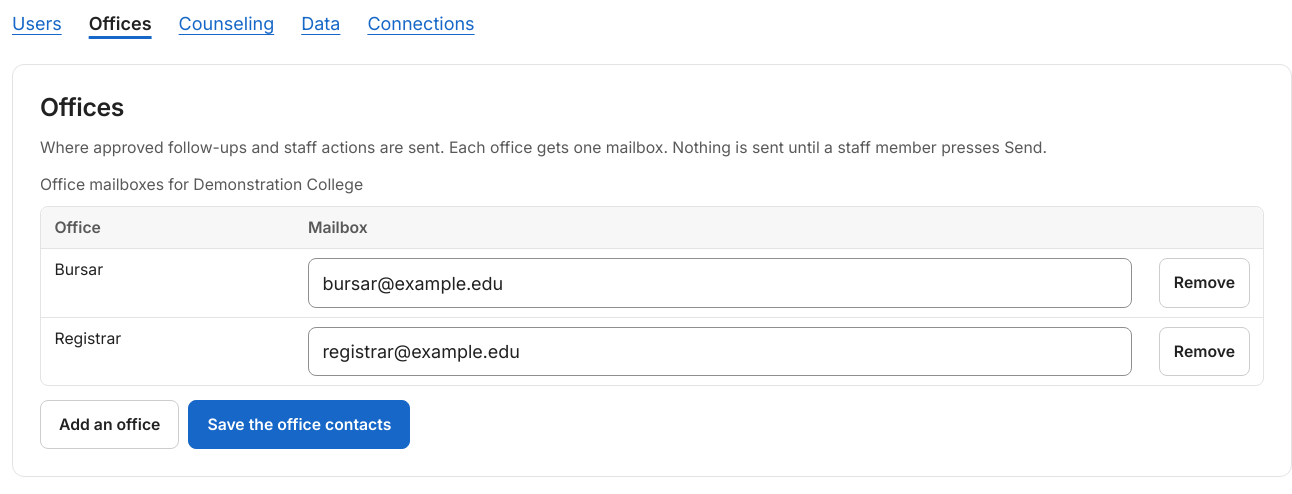
Test: Institution Offices — the book › removes a mailbox by leaving it out of the next Save
Expected: the field named "Mailbox for Registrar" is shown, x1=308 y1=327 x2=1132 y2=376
Click the button with aria-label "Remove the mailbox for Registrar" at (1204, 352), box x1=1159 y1=327 x2=1250 y2=376
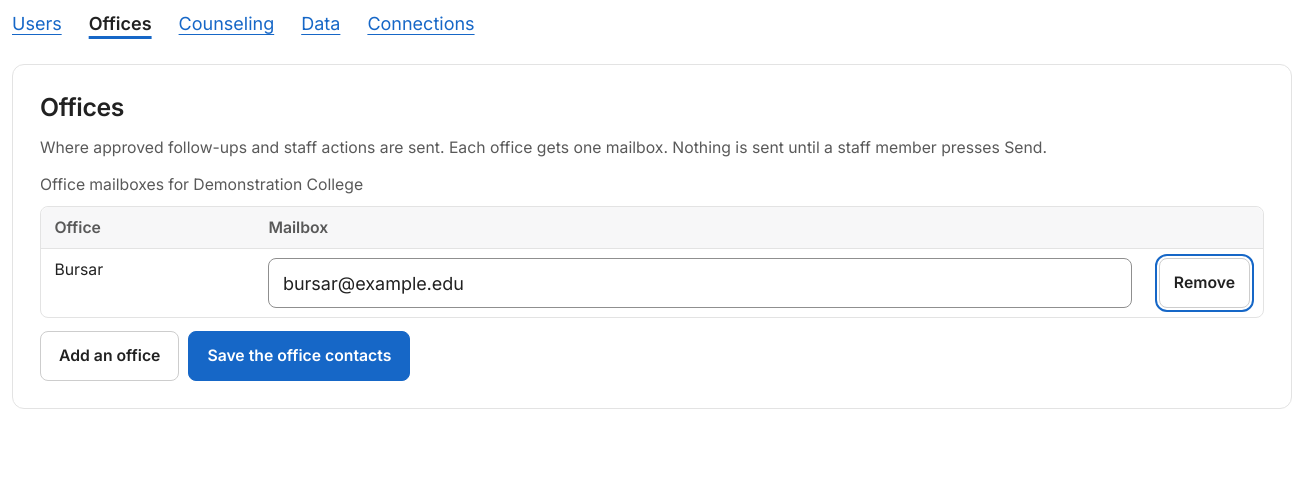
Click the button "Save the office contacts" at (299, 356), box x1=188 y1=331 x2=410 y2=381
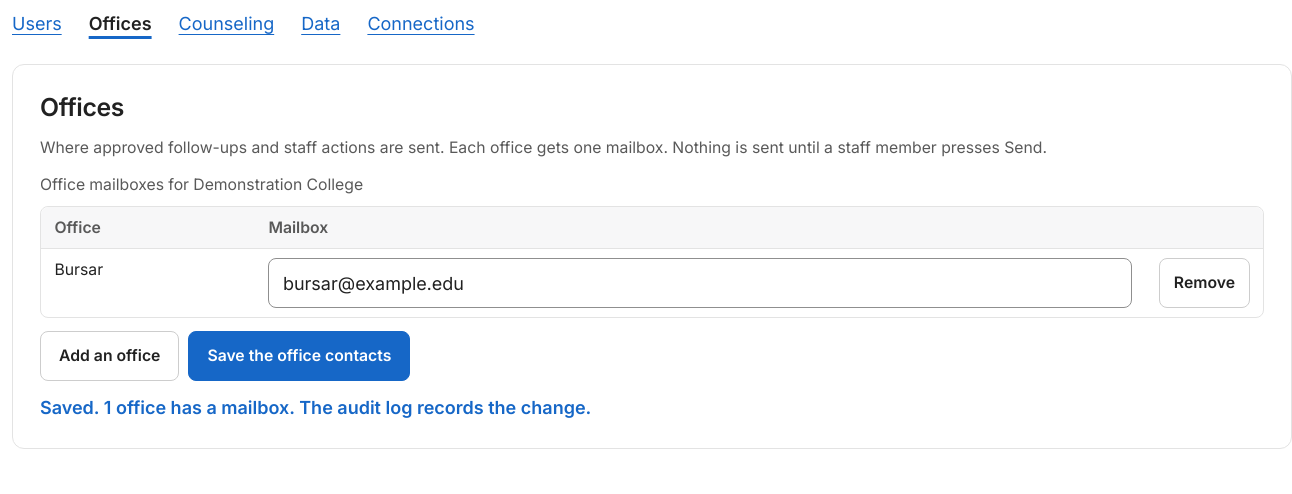
Result: the text "Saved. 1 office has a mailbox. The audit log records the change." is shown at x1=40 y1=397 x2=591 y2=418
